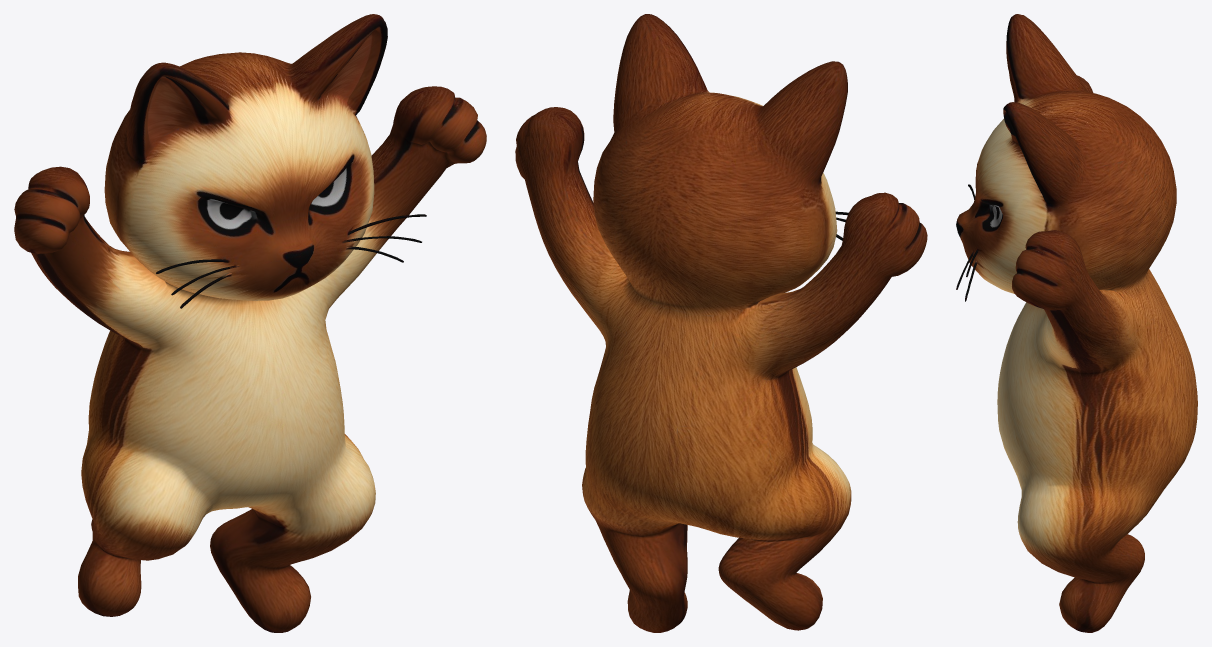
Rendered from first.obj.
3 views of the same model, side by side, from view 1: azimuth 30°, elevation 25°; view 2: azimuth 150°, elevation 25°; view 3: azimuth 270°, elevation 25° (orthographic). The views are drawn at different scales.
Parts seen in each view (by area): view 1: b26a8807_715e_467e_a519_7d982912a21b; view 2: b26a8807_715e_467e_a519_7d982912a21b; view 3: b26a8807_715e_467e_a519_7d982912a21b.
Part boxes in pixels (x1,y1,x2,y2): b26a8807_715e_467e_a519_7d982912a21b: [14, 14, 486, 632]; b26a8807_715e_467e_a519_7d982912a21b: [515, 14, 927, 632]; b26a8807_715e_467e_a519_7d982912a21b: [956, 14, 1197, 632].
Bounding box in the file's own units: 0.7456 × 0.9995 × 0.3999.
1 material, 1 textured.
